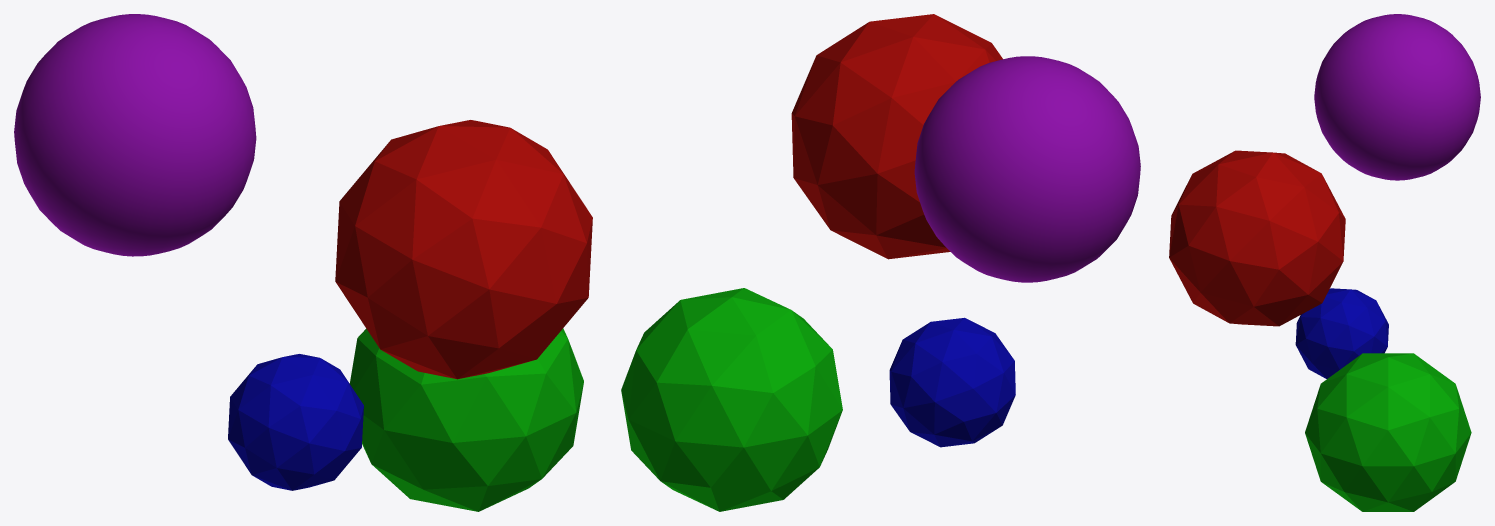
Rendered from spheres.obj.
3 views of the same model, side by side, from view 1: azimuth 30°, elevation 25°; view 2: azimuth 150°, elevation 25°; view 3: azimuth 270°, elevation 25° (orthographic). The views are drawn at different scales.
Parts seen in each view (by area): view 1: Icosphere.001, Sphere, Icosphere, Icosphere.002; view 2: Sphere, Icosphere, Icosphere.001, Icosphere.002; view 3: Icosphere.001, Sphere, Icosphere, Icosphere.002.
Boxes of the visible parts, x1,y1,x2,y2 form: Icosphere.001: [335, 120, 592, 379]; Sphere: [14, 14, 256, 256]; Icosphere: [349, 328, 583, 511]; Icosphere.002: [228, 354, 363, 490]; Sphere: [914, 56, 1140, 282]; Icosphere: [621, 288, 842, 511]; Icosphere.001: [791, 14, 1002, 259]; Icosphere.002: [889, 317, 1015, 447]; Icosphere.001: [1169, 150, 1345, 326]; Sphere: [1314, 14, 1480, 180]; Icosphere: [1305, 353, 1471, 511]; Icosphere.002: [1295, 288, 1388, 378].
Bounding box in the file's own units: 5.03 × 5.01 × 3.74.
